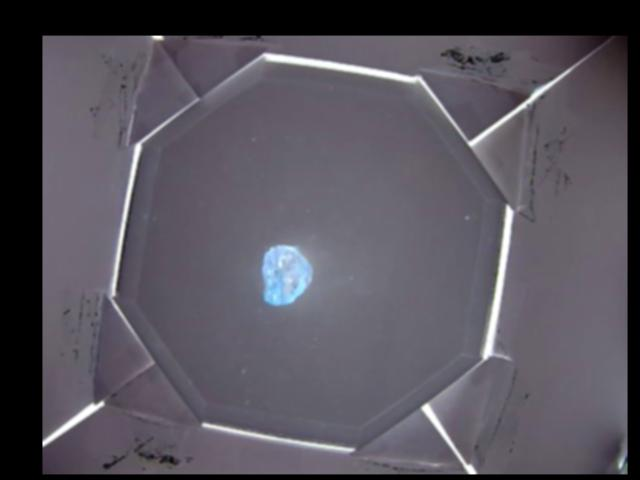Brisk: (260, 245, 312, 303)
